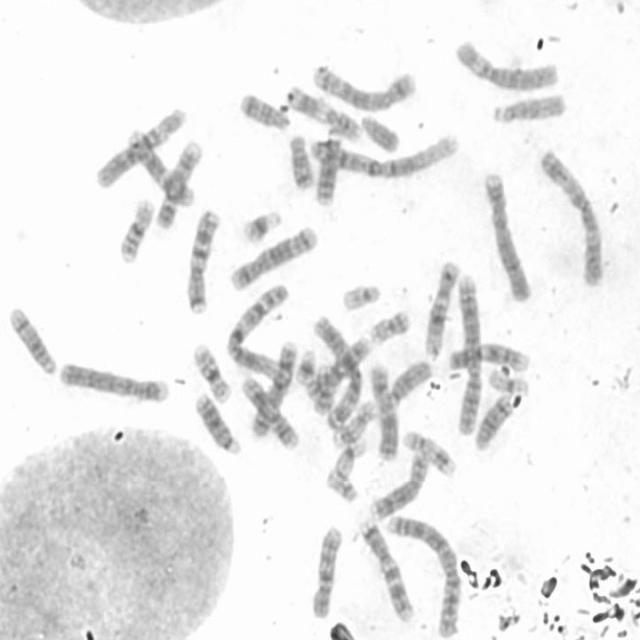A1: (304, 130, 460, 181), (223, 279, 291, 380)
A2: (384, 510, 462, 637), (452, 271, 486, 437)
A3: (536, 144, 605, 288), (316, 315, 364, 429)
B4: (480, 168, 533, 304), (56, 356, 170, 404)
B5: (227, 222, 319, 292), (309, 61, 418, 113)
C10: (305, 334, 372, 402), (308, 523, 343, 620)
C11: (238, 373, 300, 451), (284, 82, 362, 143)
C12: (128, 129, 195, 206), (422, 257, 461, 360)
C6: (92, 105, 186, 192), (452, 36, 562, 92)
C7: (356, 517, 416, 624), (182, 204, 222, 316)
C8: (247, 337, 298, 440), (369, 450, 430, 520)
C9: (152, 135, 204, 231), (444, 340, 532, 376)
D13: (191, 389, 245, 457), (311, 134, 343, 207)
D14: (5, 302, 59, 378), (471, 391, 513, 452)
D15: (490, 89, 568, 125), (384, 356, 434, 409)
E16: (116, 194, 156, 264), (190, 340, 232, 406)
E17: (400, 426, 458, 478), (330, 396, 376, 449)
E18: (236, 88, 292, 131), (286, 130, 316, 191)
F19: (328, 434, 369, 483), (485, 363, 530, 395)
F20: (366, 307, 412, 346), (312, 363, 336, 417)
G21: (239, 207, 284, 245), (292, 344, 318, 386)
G22: (322, 465, 361, 504), (339, 281, 381, 313)
X: (366, 360, 400, 463)
Y: (357, 111, 402, 155)
